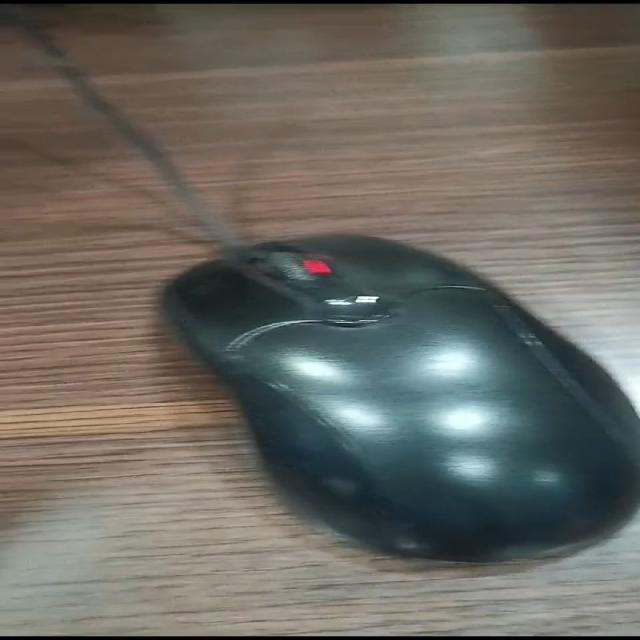Mouse: (134, 185, 640, 602)
